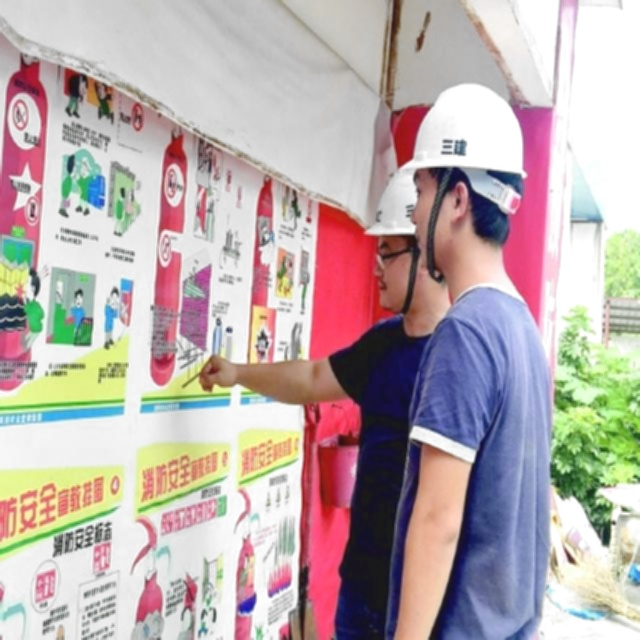Con_Casco: (415, 78, 521, 278)
